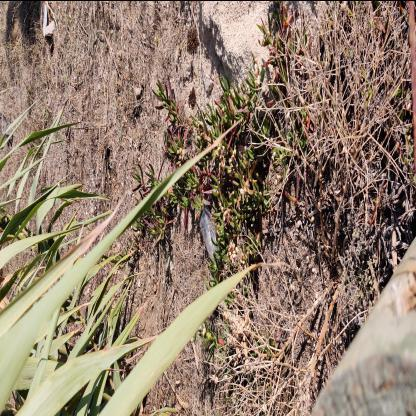plastik: (197, 198, 222, 264)
